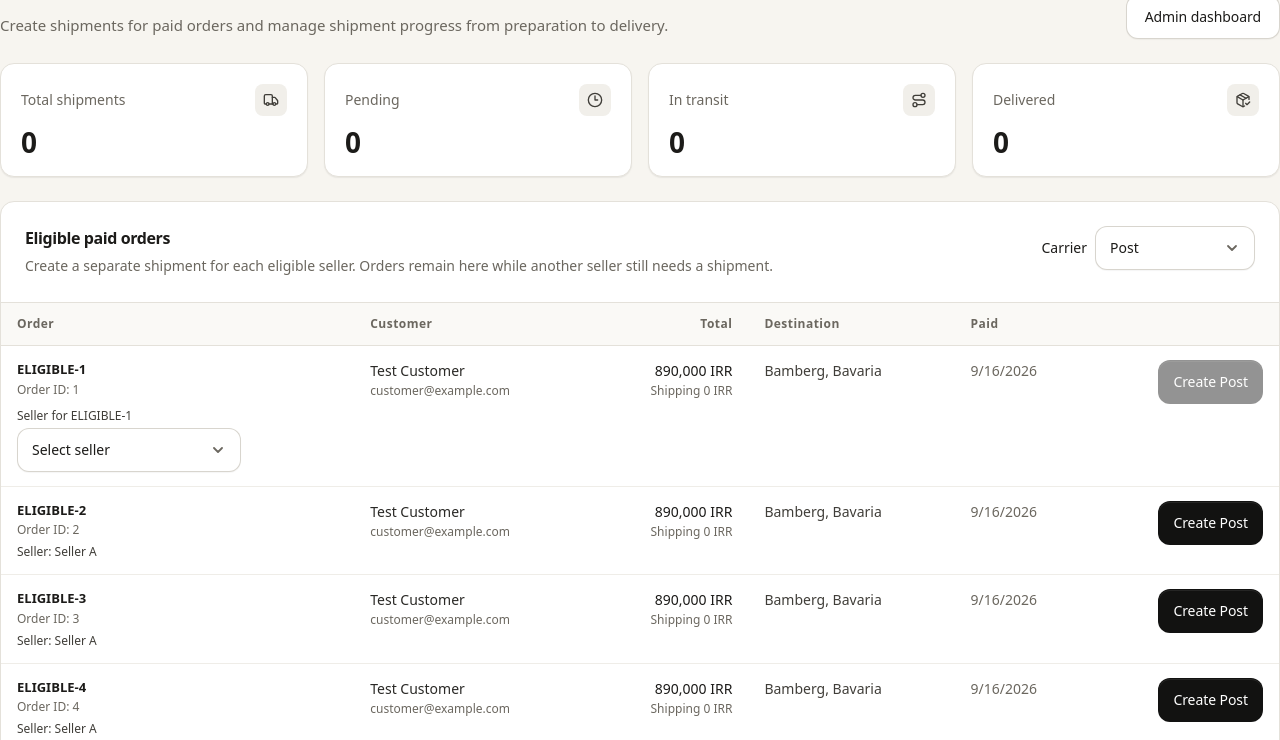
AdminShipmentsList › retains seller selection while browsing other eligible pages
Select "Seller B (paid)" in the dropdown labelled "Seller for ELIGIBLE-1" at x=129, y=450, box [17,428,241,472]
(page scrolled)
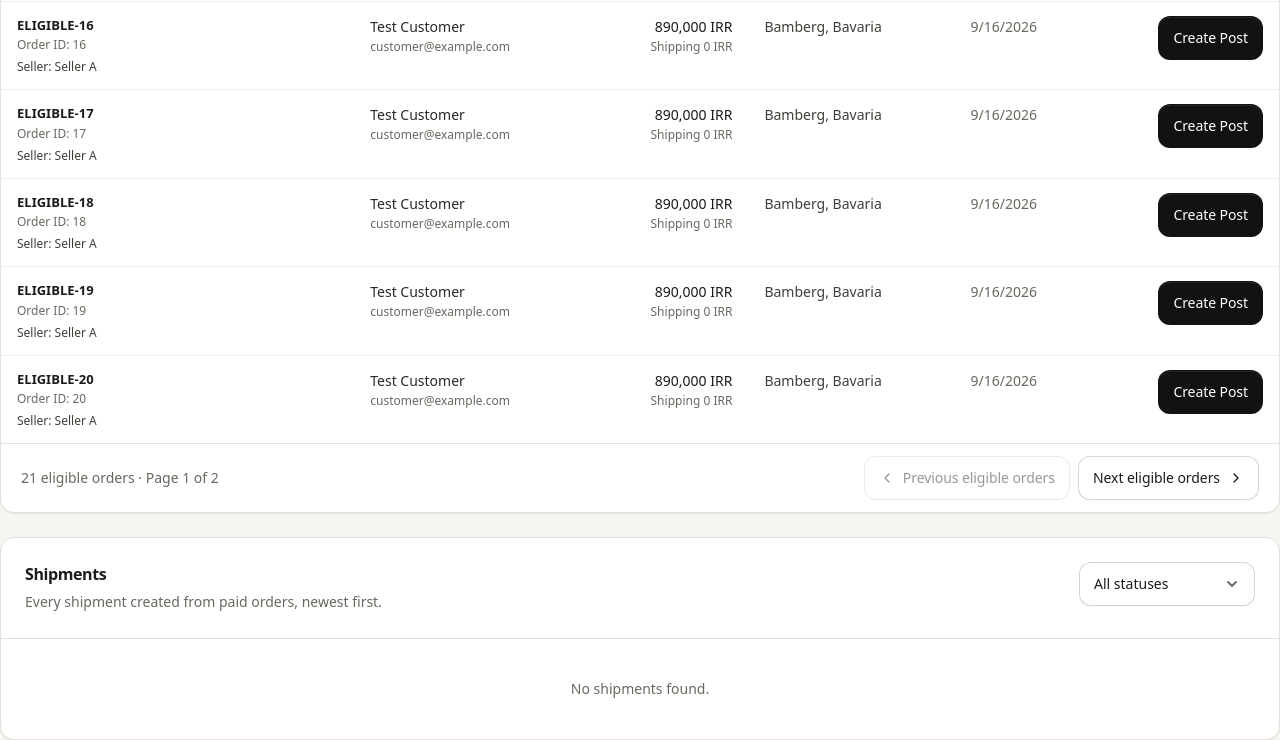
Click the button "Next eligible orders" at x=1168, y=478, box [1078,456,1259,500]
(page scrolled)
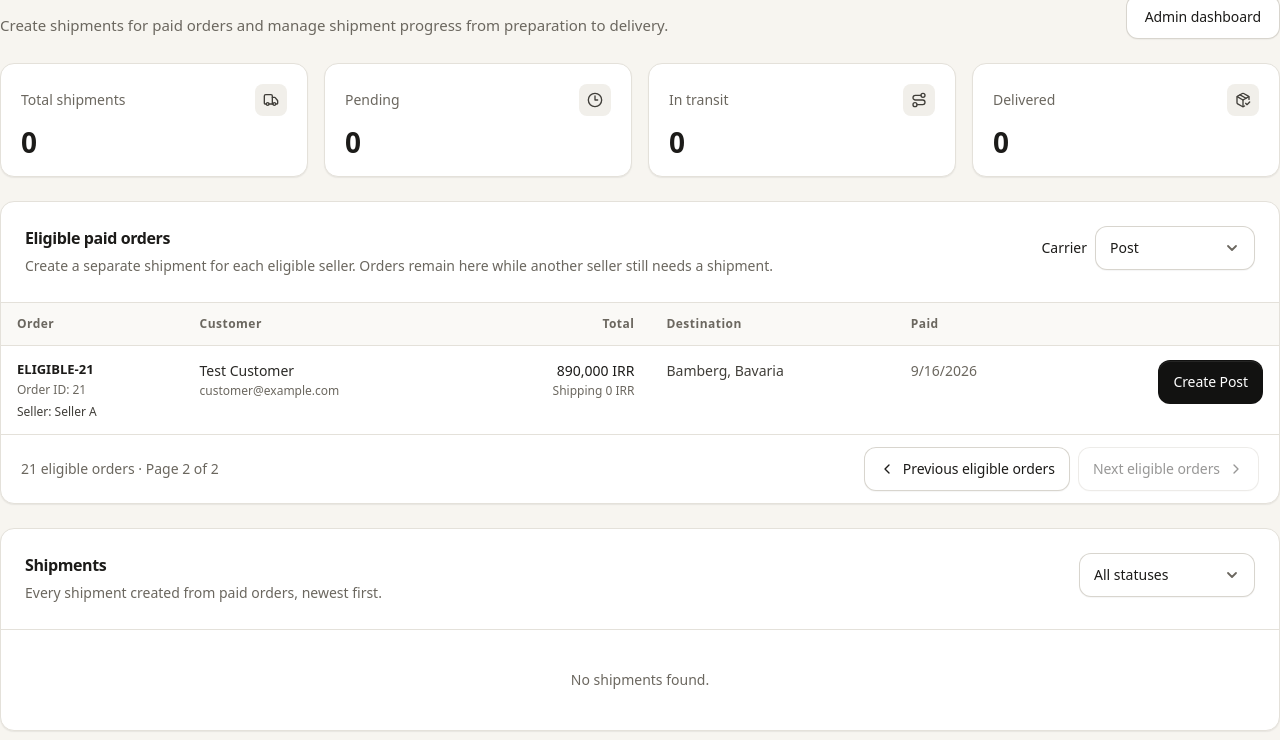
Check: the text "ELIGIBLE-21" is shown, box [17,360,94,378]
Click the button "Previous eligible orders" at x=967, y=469, box [864,447,1070,491]
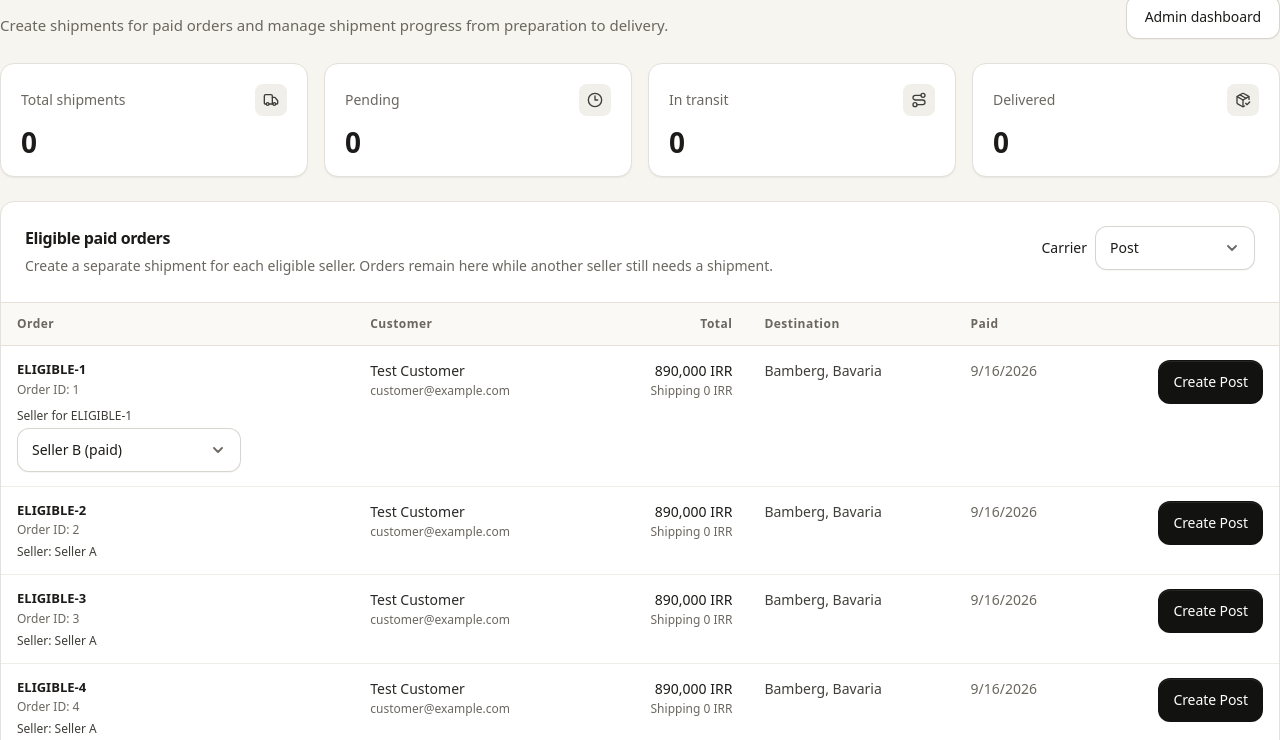
Check: the dropdown labelled "Seller for ELIGIBLE-1" shows "Seller B (paid)", box [17,428,241,472]
